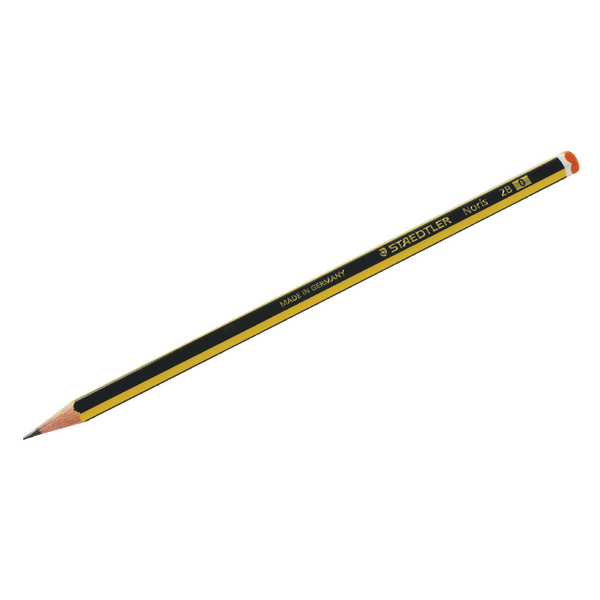pencil: (5, 142, 600, 505)
